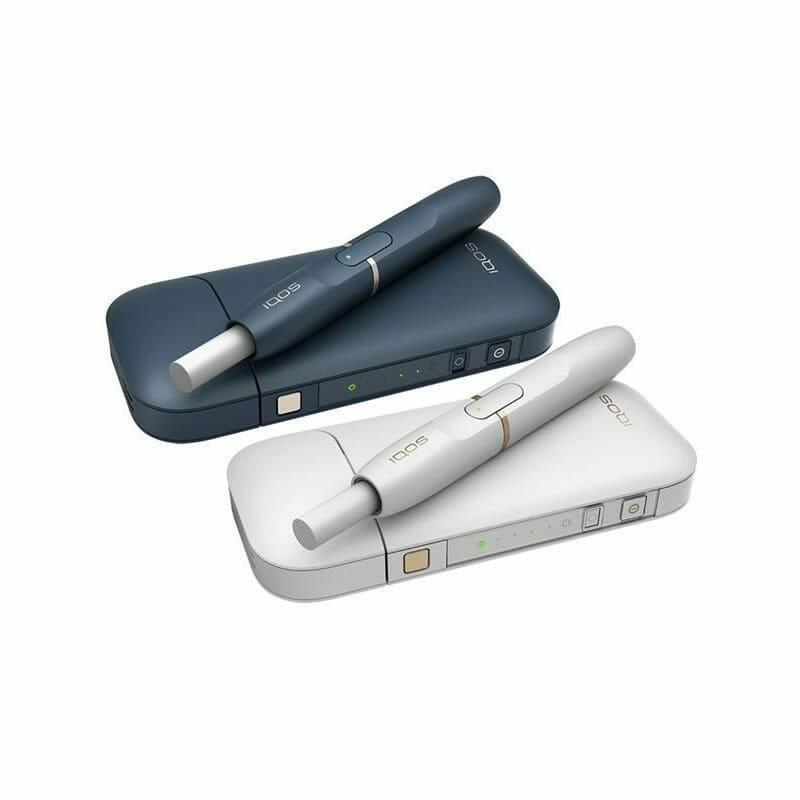iqos: (292, 326, 635, 550), (169, 175, 502, 394)
